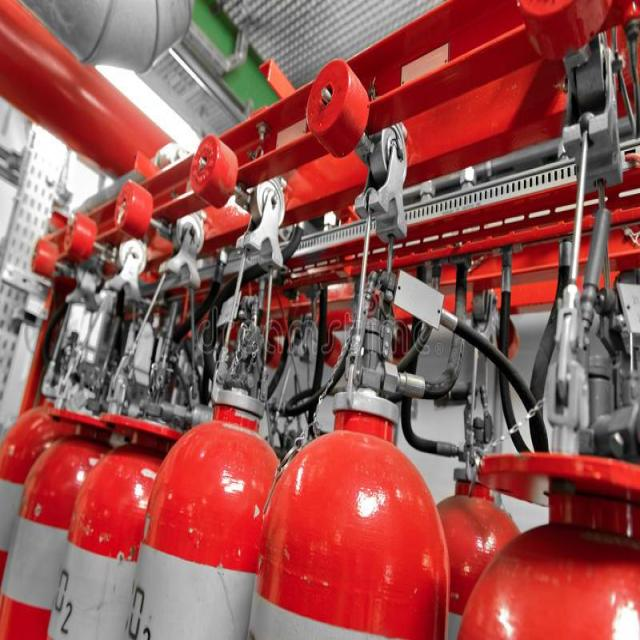fire_extinguisher: (237, 316, 453, 639), (120, 315, 310, 639), (45, 331, 212, 639), (443, 399, 639, 639), (1, 368, 162, 639), (417, 417, 539, 639)
